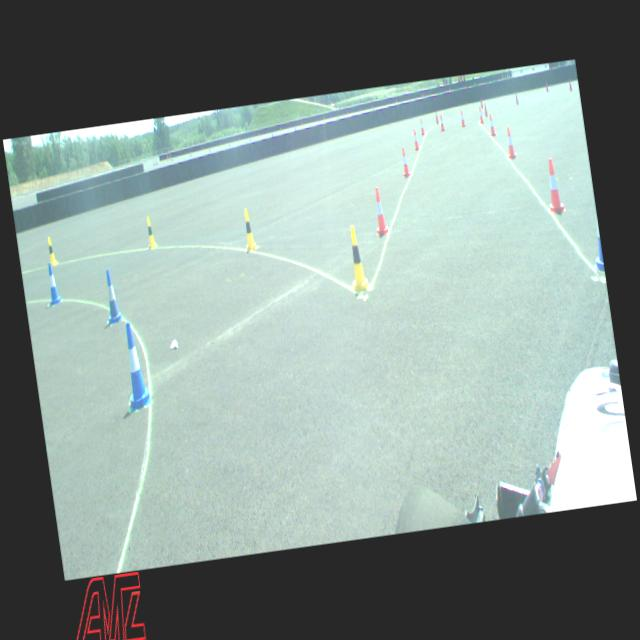blue_cone: (118, 321, 152, 412), (100, 268, 122, 326), (586, 215, 605, 273), (44, 262, 61, 306)
orange_cone: (543, 158, 566, 215), (370, 186, 391, 235), (399, 146, 412, 178), (504, 126, 516, 159), (488, 112, 497, 136), (412, 129, 420, 151), (459, 109, 466, 127), (478, 106, 484, 124), (419, 119, 425, 135), (439, 114, 445, 130)
unknown_cone: (479, 97, 484, 109), (484, 103, 488, 117), (435, 111, 439, 124), (514, 92, 518, 105), (568, 80, 572, 91), (546, 82, 549, 92)
yellow_cone: (344, 224, 371, 294), (240, 208, 258, 252), (144, 216, 157, 249), (48, 236, 58, 266)
